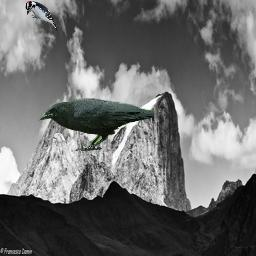Crow: (38, 98, 155, 153)
Woodpecker: (25, 0, 59, 33)
